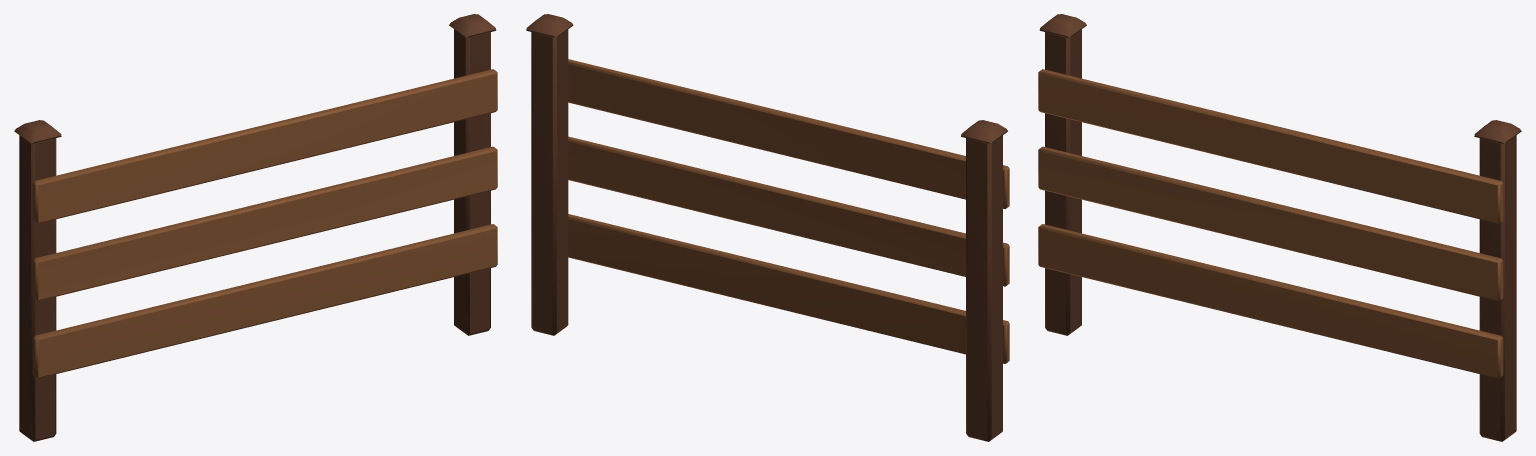
The model's file is fence-wood.glb.
The picture shows the model from 3 angles, left to right: view 1: azimuth 30°, elevation 25°; view 2: azimuth 150°, elevation 25°; view 3: azimuth 330°, elevation 25°; orthographic projection.
Visible parts, largest first — view 1: Fence wood Wood, Fence wood Dark wood; view 2: Fence wood Wood, Fence wood Dark wood; view 3: Fence wood Wood, Fence wood Dark wood.
Boxes of the visible parts, box(x1,y1,x2,y2) form: Fence wood Wood: box(32, 69, 497, 378); Fence wood Dark wood: box(14, 14, 496, 441); Fence wood Wood: box(568, 59, 1009, 363); Fence wood Dark wood: box(526, 14, 1007, 441); Fence wood Wood: box(1038, 69, 1503, 378); Fence wood Dark wood: box(1039, 14, 1521, 441).
Size of the model in its own units: 2.02 by 1.29 by 0.1607.
